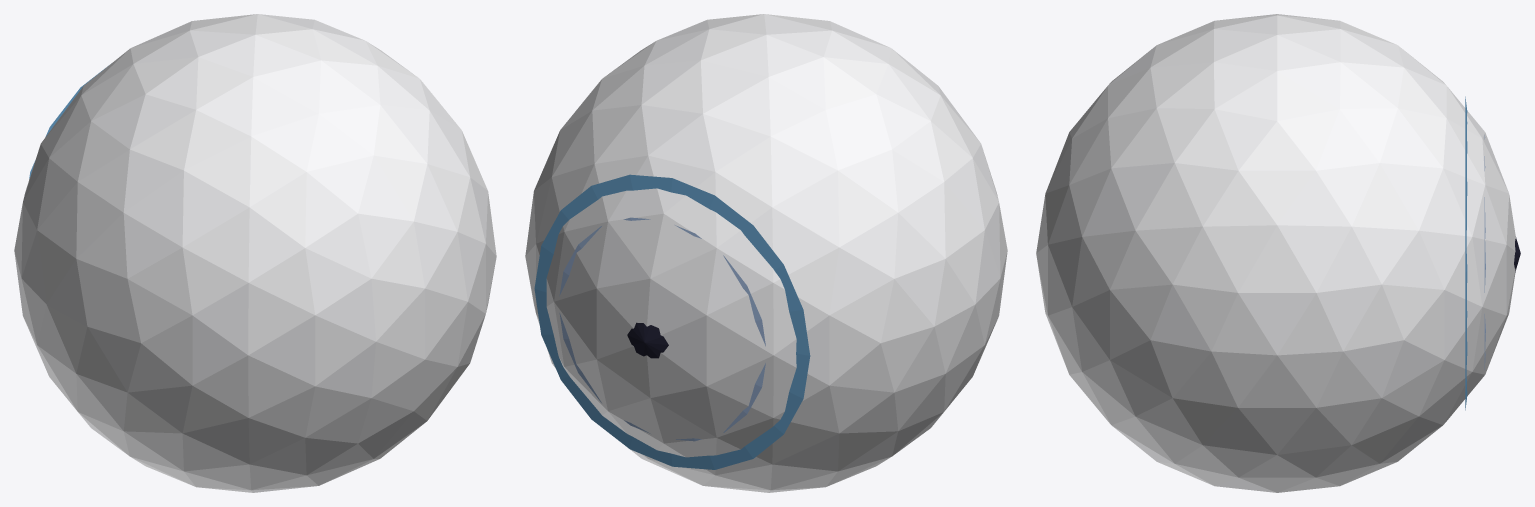
The model's file is AngelEye.obj.
The picture shows the model from 3 angles, left to right: view 1: azimuth 30°, elevation 25°; view 2: azimuth 150°, elevation 25°; view 3: azimuth 270°, elevation 25°; orthographic projection.
Visible parts, largest first — view 1: AngelEye; view 2: AngelEye; view 3: AngelEye.
Part boxes in pixels (left/top/right/bottom): AngelEye: left=14, top=14, right=496, bottom=492; AngelEye: left=525, top=14, right=1007, bottom=492; AngelEye: left=1036, top=14, right=1520, bottom=492.
Size of the model in its own units: 2 by 2 by 2.01.
Materials: 1 (1 with a texture image).
